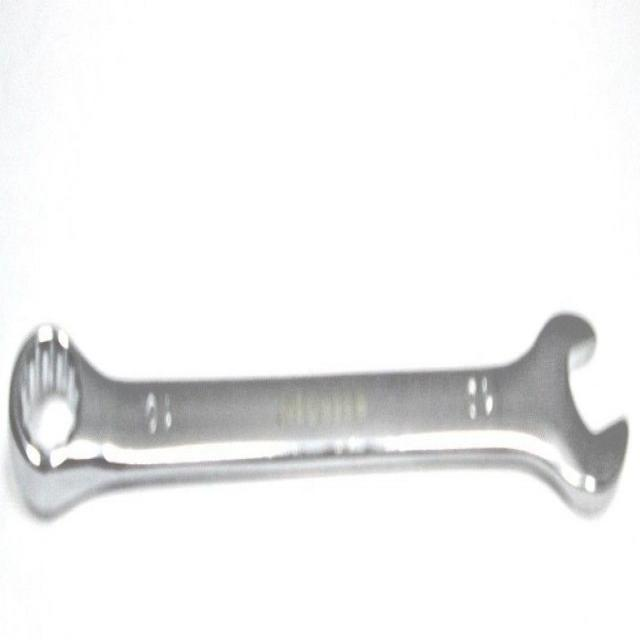wrench: (3, 306, 632, 526)
